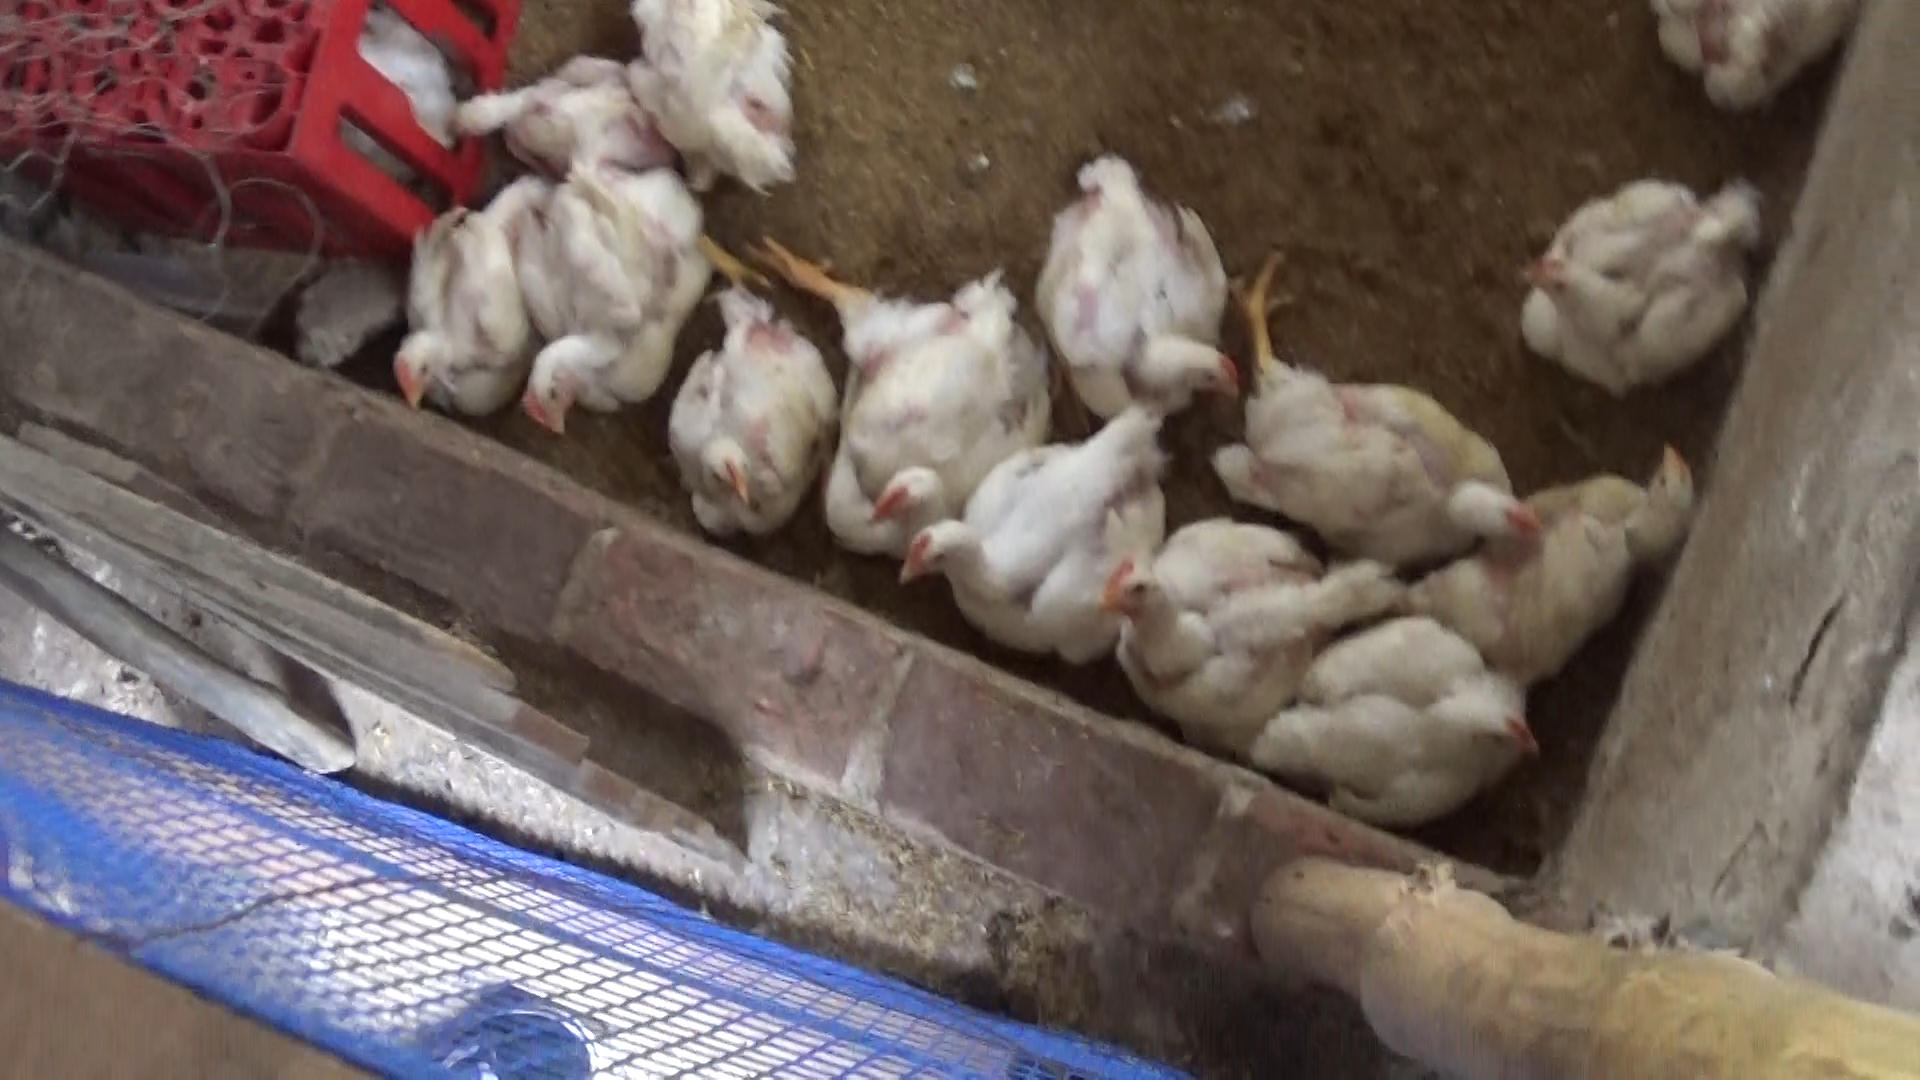Pollos: (1212, 241, 1547, 563), (779, 247, 1046, 558), (909, 384, 1174, 651), (1077, 513, 1396, 731), (1420, 434, 1720, 649), (1025, 144, 1246, 422), (1250, 622, 1547, 829), (517, 157, 717, 440), (1505, 148, 1749, 368), (669, 277, 831, 531), (382, 173, 533, 422), (646, 0, 804, 187), (1648, 0, 1855, 119), (458, 55, 655, 179)
